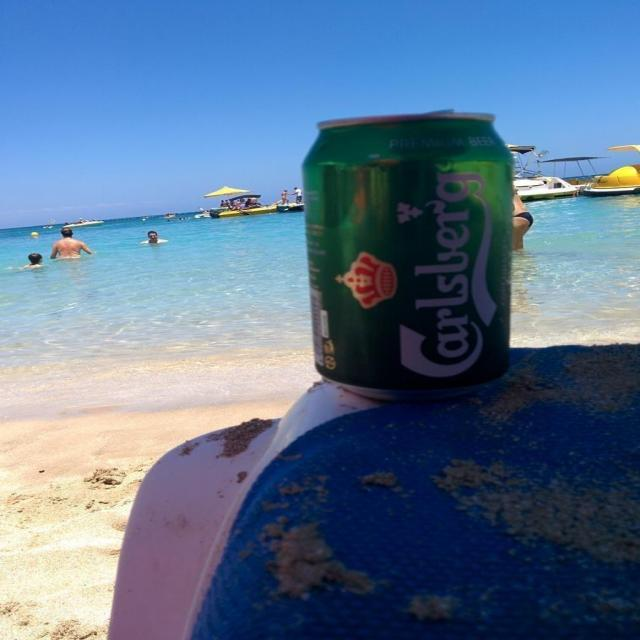tin can: (299, 106, 517, 403)
